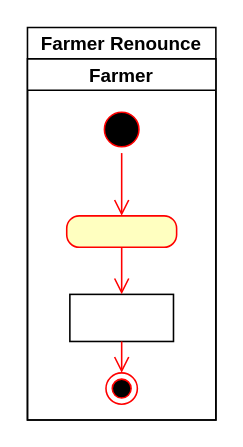
Image size: 243x447. Some labels were removed from this diagram. Each missing label, with the centre of its shape:
Farmer Role Removed: the point at 120,317
Renounce Farmer: the point at 121,230
